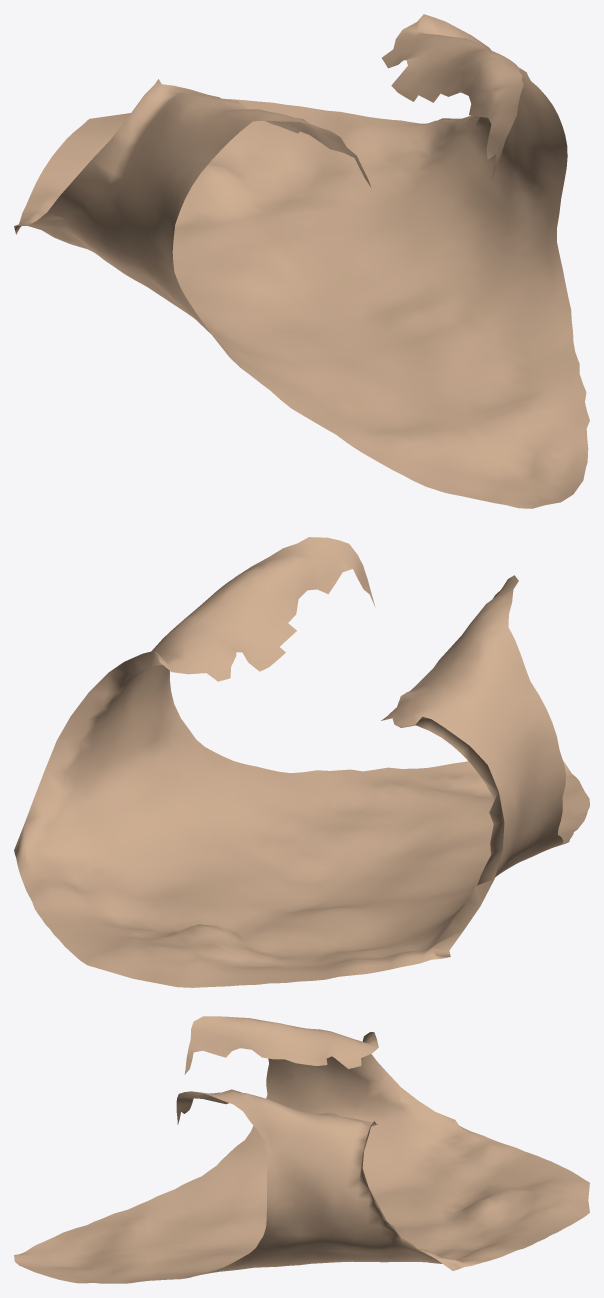
The picture shows the model from 3 angles, top to bottom: view 1: azimuth 30°, elevation 25°; view 2: azimuth 150°, elevation 25°; view 3: azimuth 270°, elevation 25°; orthographic projection. The views are drawn at different scales.
Parts seen in each view (by area): view 1: 腹横筋膜; view 2: 腹横筋膜; view 3: 腹横筋膜.
Boxes of the visible parts, x1,y1,x2,y2 form: 腹横筋膜: [14, 14, 589, 508]; 腹横筋膜: [14, 537, 589, 987]; 腹横筋膜: [14, 1016, 589, 1283].
Bounding box in the file's own units: 0.3436 × 0.2264 × 0.557.
